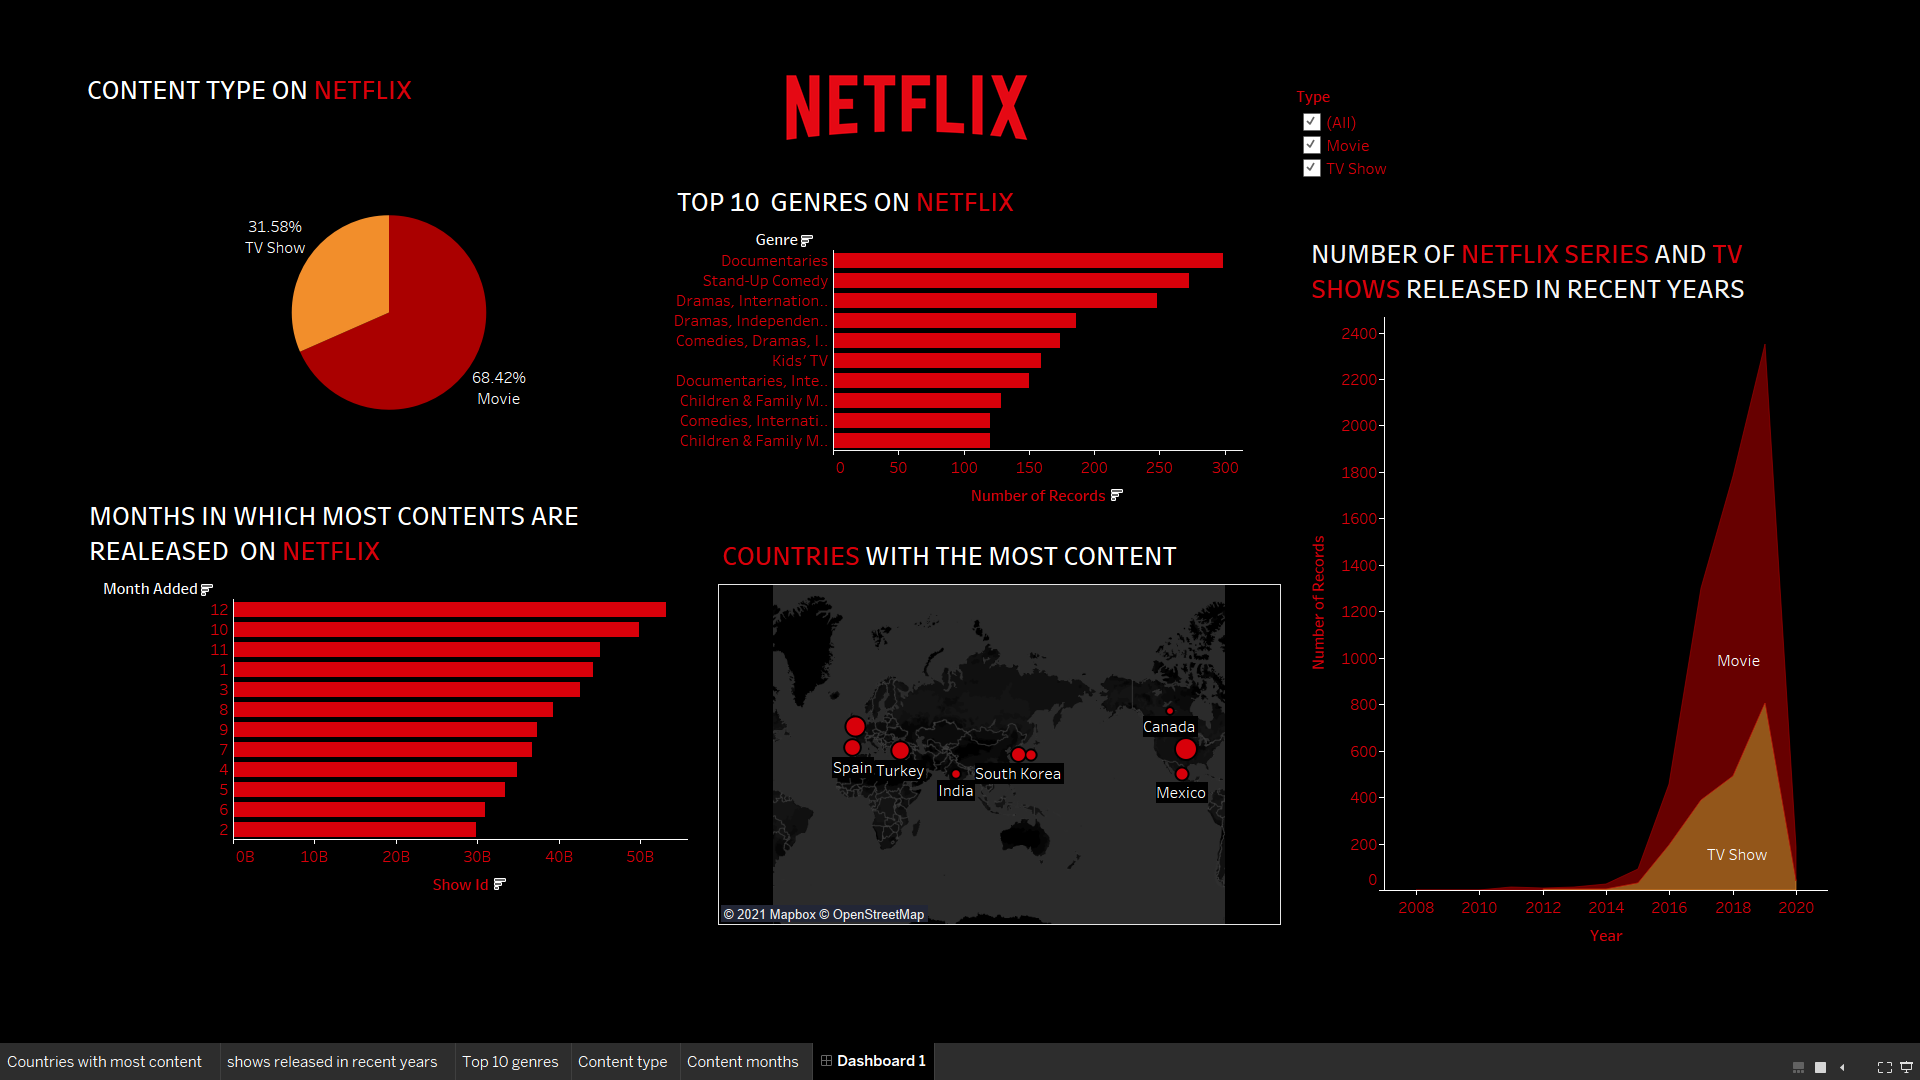

This screenshot's page, from the dashboard's own definition file:
{"tool":"tableau","page":{"name":"Dashboard 1","canvas":[1750,950],"ordinal":0},"visuals":[{"type":"worksheet","param":"Image/netflix-logo.png","box":[649,24,348,79]},{"type":"worksheet","title":"shows released in recent years","mark":"Area","rows":["Number of Records"],"cols":["Year"],"param":"[federated.11xm90e1worl4r13gbfnq0cwop6c].[none:Type:nk]","box":[1211.4,39.9,329.6,159.6]},{"type":"worksheet","title":"Top 10 genres","mark":"Automatic","rows":["Genre"],"cols":["Number of Records"],"box":[588,134,570,407]},{"type":"worksheet","title":"shows released in recent years","mark":"Area","rows":["Number of Records"],"cols":["Year"],"box":[1222,186,521,721]},{"type":"worksheet","title":"Content months","mark":"Automatic","rows":["Month Added"],"cols":["Show Id"],"box":[0,448,603,464]},{"type":"worksheet","title":"Countries with most content","mark":"Automatic","box":[633,488,563,391]},{"type":"worksheet","title":"shows released in recent years","mark":"Area","rows":["Number of Records"],"cols":["Year"],"param":"[federated.11xm90e1worl4r13gbfnq0cwop6c].[none:Type:nk]","box":[999.7,586.9,153.1,67.6]}]}

Visuals, with their boxes on the page's 1750x950 design canvas (x1, y1, x2, y2). These are canvas units, not pixel positions in the 1920x1080 screenshot, which may show the page scaled, cropped or inside an application window:
worksheet: x1=649, y1=24, x2=997, y2=103
"shows released in recent years" worksheet (Area marks): x1=1211, y1=40, x2=1541, y2=200
"Top 10 genres" worksheet: x1=588, y1=134, x2=1158, y2=541
"shows released in recent years" worksheet (Area marks): x1=1222, y1=186, x2=1743, y2=907
"Content months" worksheet: x1=0, y1=448, x2=603, y2=912
"Countries with most content" worksheet: x1=633, y1=488, x2=1196, y2=879
"shows released in recent years" worksheet (Area marks): x1=1000, y1=587, x2=1153, y2=654
